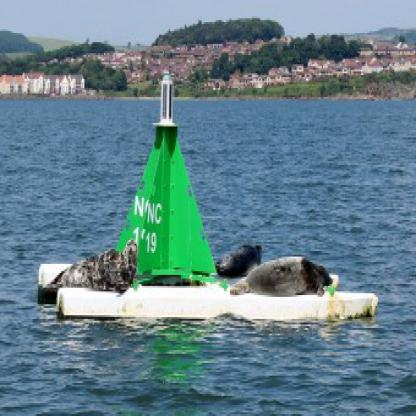buoy: (98, 62, 225, 292)
